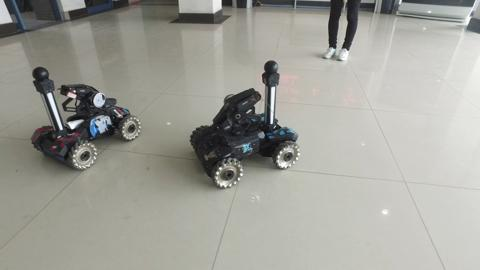chariot: (189, 58, 306, 189), (27, 64, 147, 175)
